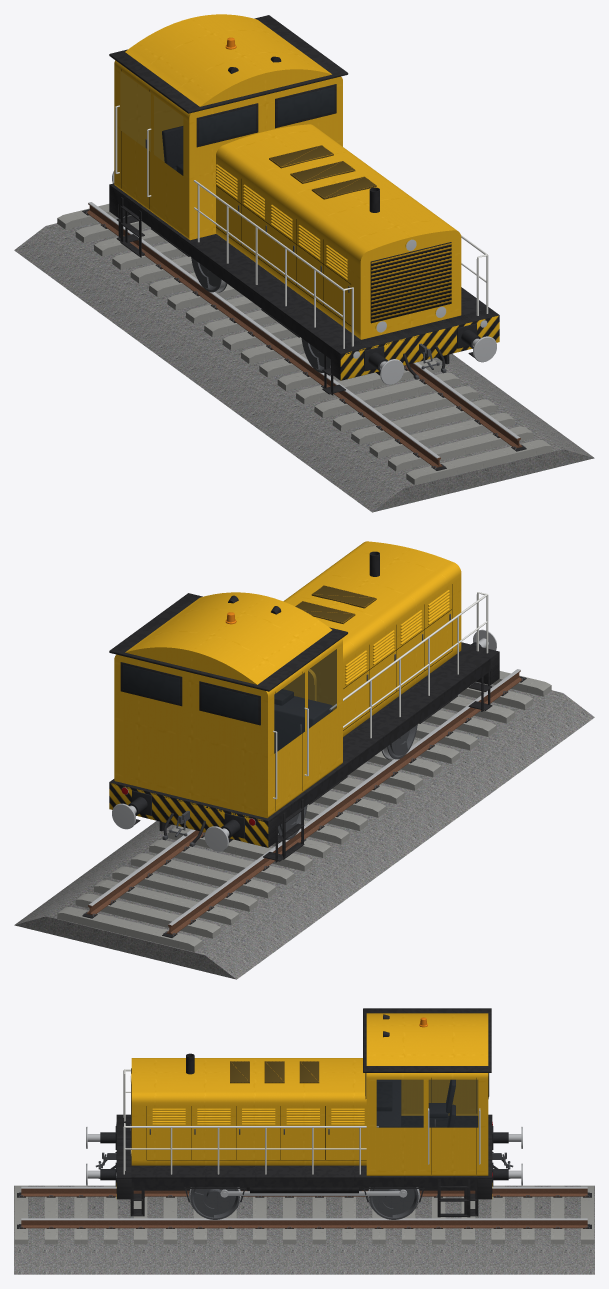
The model's file is locomotive.glb.
The picture shows the model from 3 angles, top to bottom: view 1: azimuth 30°, elevation 25°; view 2: azimuth 150°, elevation 25°; view 3: azimuth 270°, elevation 25°; orthographic projection. The views are drawn at different scales.
Visible parts, largest first — view 1: Shunting locomotive - Body paint, yellow, Shunting locomotive - Track ballast, Shunting locomotive - Concrete sleepers, Shunting locomotive - Frame and footplate, black, Shunting locomotive - Radiator grille, Shunting locomotive - Cab windows (alpha-blended), Shunting locomotive - Rail, weathered steel, Shunting locomotive - Buffer beam safety chevrons, Shunting locomotive - Handrails, white, Shunting locomotive - Rail head, polished running band, Shunting locomotive - Brushed steel, Shunting locomotive - Wheelsets, dark steel (+3 smaller); view 2: Shunting locomotive - Body paint, yellow, Shunting locomotive - Track ballast, Shunting locomotive - Concrete sleepers, Shunting locomotive - Frame and footplate, black, Shunting locomotive - Cab windows (alpha-blended), Shunting locomotive - Rail, weathered steel, Shunting locomotive - Buffer beam safety chevrons, Shunting locomotive - Handrails, white, Shunting locomotive - Rail head, polished running band, Shunting locomotive - Cab interior, grey, Shunting locomotive - Radiator grille, Shunting locomotive - Brushed steel (+5 smaller); view 3: Shunting locomotive - Body paint, yellow, Shunting locomotive - Track ballast, Shunting locomotive - Frame and footplate, black, Shunting locomotive - Concrete sleepers, Shunting locomotive - Rail, weathered steel, Shunting locomotive - Cab windows (alpha-blended), Shunting locomotive - Wheelsets, dark steel, Shunting locomotive - Rail head, polished running band, Shunting locomotive - Handrails, white, Shunting locomotive - Cab interior, grey, Shunting locomotive - Radiator grille, Shunting locomotive - Satin black (+5 smaller).
Boxes of the visible parts, x1,y1,x2,y2 form: Shunting locomotive - Body paint, yellow: (114, 14, 461, 339); Shunting locomotive - Track ballast: (14, 215, 594, 512); Shunting locomotive - Concrete sleepers: (57, 204, 551, 484); Shunting locomotive - Frame and footplate, black: (109, 15, 499, 395); Shunting locomotive - Radiator grille: (269, 145, 451, 322); Shunting locomotive - Cab windows (alpha-blended): (120, 71, 334, 175); Shunting locomotive - Rail, weathered steel: (86, 203, 522, 467); Shunting locomotive - Buffer beam safety chevrons: (340, 315, 499, 380); Shunting locomotive - Handrails, white: (115, 105, 488, 348); Shunting locomotive - Rail head, polished running band: (88, 202, 519, 458); Shunting locomotive - Brushed steel: (112, 170, 496, 384); Shunting locomotive - Wheelsets, dark steel: (191, 257, 330, 372); Shunting locomotive - Body paint, yellow: (114, 541, 461, 818); Shunting locomotive - Track ballast: (14, 682, 594, 979); Shunting locomotive - Concrete sleepers: (57, 671, 551, 952); Shunting locomotive - Frame and footplate, black: (109, 551, 499, 862); Shunting locomotive - Cab windows (alpha-blended): (122, 649, 336, 753); Shunting locomotive - Rail, weathered steel: (86, 670, 522, 934); Shunting locomotive - Buffer beam safety chevrons: (109, 783, 268, 847); Shunting locomotive - Handrails, white: (273, 592, 488, 799); Shunting locomotive - Rail head, polished running band: (89, 669, 520, 925); Shunting locomotive - Cab interior, grey: (274, 696, 332, 753); Shunting locomotive - Radiator grille: (295, 585, 376, 623); Shunting locomotive - Brushed steel: (112, 629, 496, 851); Shunting locomotive - Body paint, yellow: (131, 1013, 488, 1175); Shunting locomotive - Track ballast: (14, 1185, 594, 1274); Shunting locomotive - Frame and footplate, black: (116, 1008, 492, 1217); Shunting locomotive - Concrete sleepers: (14, 1185, 594, 1244); Shunting locomotive - Rail, weathered steel: (21, 1188, 587, 1228); Shunting locomotive - Cab windows (alpha-blended): (365, 1073, 489, 1127); Shunting locomotive - Wheelsets, dark steel: (189, 1187, 419, 1219); Shunting locomotive - Rail head, polished running band: (21, 1186, 587, 1220); Shunting locomotive - Handrails, white: (123, 1069, 480, 1174); Shunting locomotive - Cab interior, grey: (376, 1079, 455, 1127); Shunting locomotive - Radiator grille: (230, 1061, 319, 1083); Shunting locomotive - Satin black: (100, 1125, 508, 1186).
Size of the model in its own units: 4.2 by 4.73 by 11.7.
Materials: 23 (23 with a texture image).
